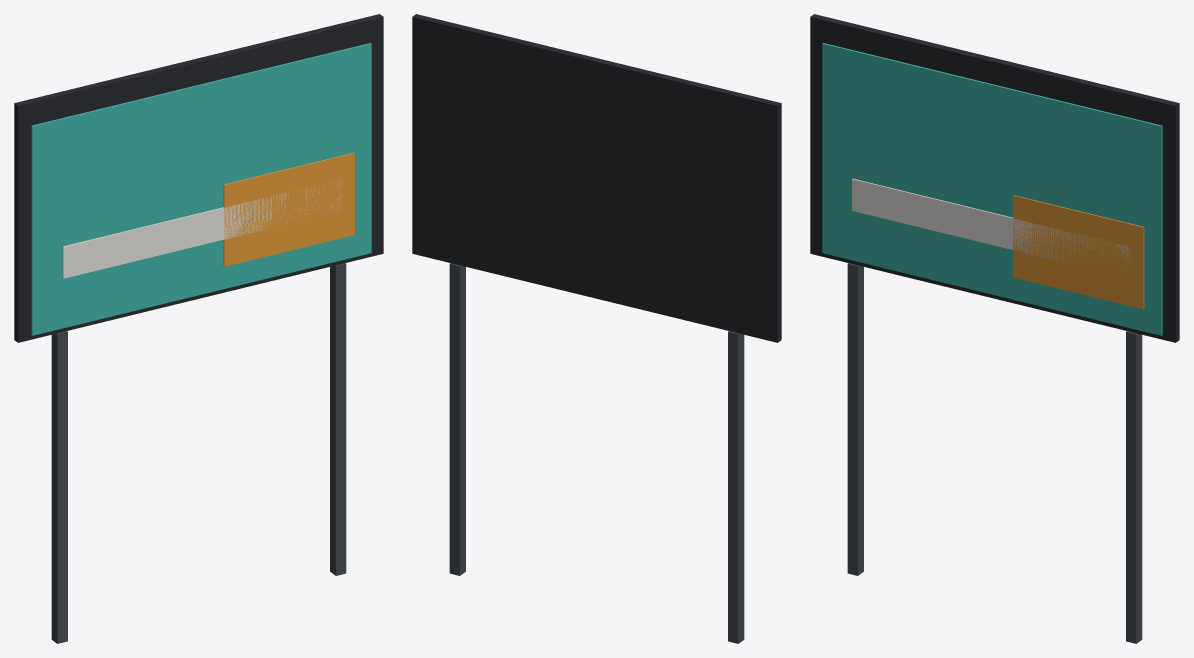
Rendered from prop.billboard.glb.
The picture shows the model from 3 angles, left to right: view 1: azimuth 30°, elevation 25°; view 2: azimuth 150°, elevation 25°; view 3: azimuth 330°, elevation 25°; orthographic projection.
Visible parts, largest first — view 1: prop.billboard; view 2: prop.billboard; view 3: prop.billboard.
Part boxes in pixels (box(x1,y1,x2,y2)): prop.billboard: box(14, 14, 383, 643); prop.billboard: box(412, 14, 781, 643); prop.billboard: box(810, 14, 1179, 643).
Size of the model in its own units: 4.2 by 6 by 0.1325.
